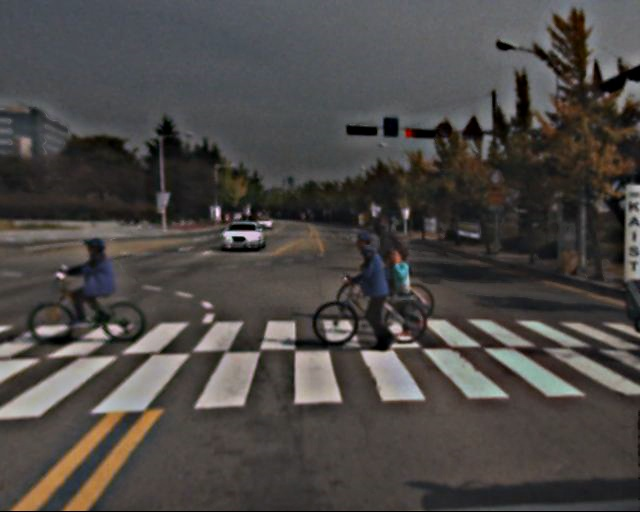person: (358, 221, 413, 338), (356, 240, 402, 352), (77, 236, 125, 330), (381, 247, 427, 340)
